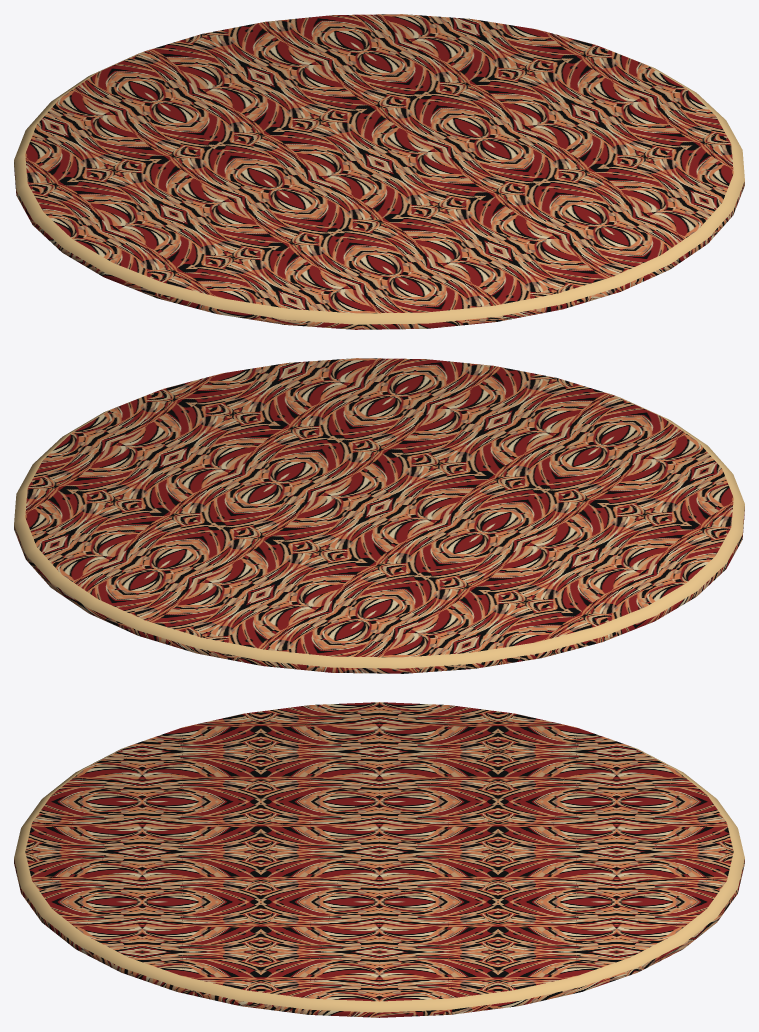
The model's file is island_collider.glb.
3 views of the same model, one above another, from view 1: azimuth 30°, elevation 25°; view 2: azimuth 150°, elevation 25°; view 3: azimuth 270°, elevation 25° (orthographic).
Parts seen in each view (by area): view 1: island; view 2: island; view 3: island.
Part boxes in pixels (<box>): island: <box>14,14,744,329</box>; island: <box>14,358,744,673</box>; island: <box>14,702,744,1017</box>.
Size of what is drawn, in the model's own units: 7.24 by 0.1261 by 7.24.
Materials: 2 (1 with a texture image).
